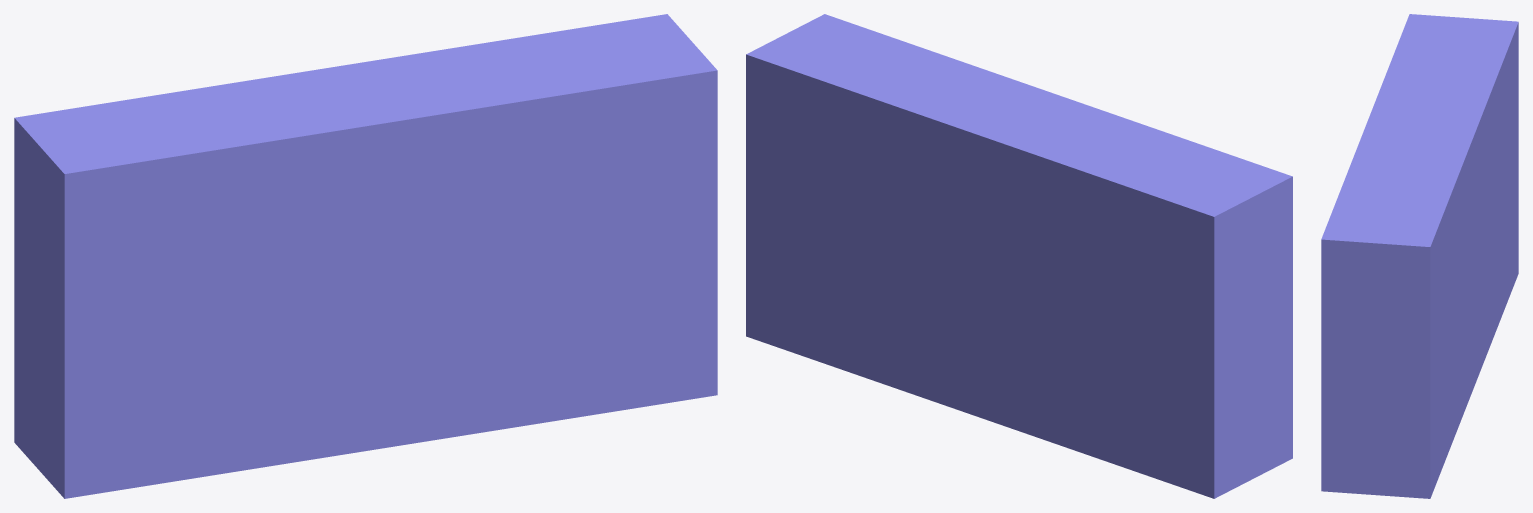
Rendered from original-6.obj.
3 renders of one model, left to right at view 1: azimuth 30°, elevation 25°; view 2: azimuth 150°, elevation 25°; view 3: azimuth 270°, elevation 25°, orthographic. The views are drawn at different scales.
Parts seen in each view (by area): view 1: group_2/ID39#ID39; view 2: group_2/ID39#ID39; view 3: group_2/ID39#ID39.
Part boxes in pixels (box(x1,y1,x2,y2)): group_2/ID39#ID39: box(14, 14, 717, 498); group_2/ID39#ID39: box(746, 14, 1292, 498); group_2/ID39#ID39: box(1321, 14, 1518, 498).
Bounding box in the file's own units: 0.5335 × 0.2686 × 0.191.
